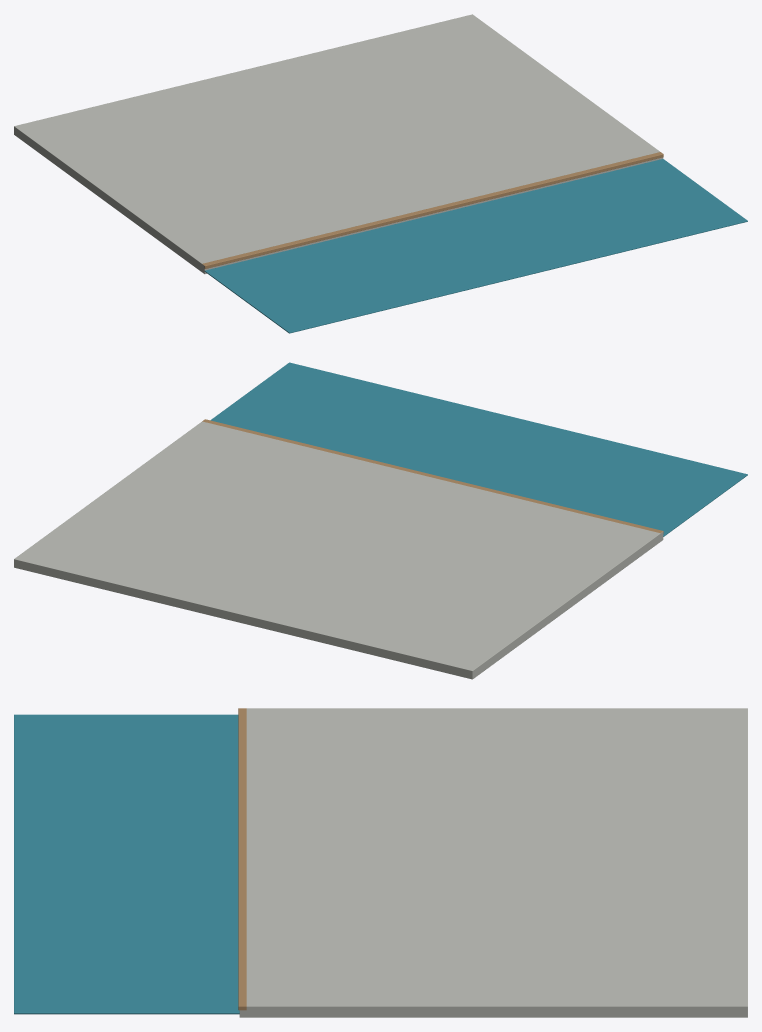
The model's file is rowing-boathouse-and-regatta-course-regatta-riverbank--b71867f1__32174.glb.
The picture shows the model from 3 angles, top to bottom: view 1: azimuth 30°, elevation 25°; view 2: azimuth 150°, elevation 25°; view 3: azimuth 270°, elevation 25°; orthographic projection. The views are drawn at different scales.
Parts seen in each view (by area): view 1: regatta-riverbank-base; view 2: regatta-riverbank-base; view 3: regatta-riverbank-base.
Part boxes in pixels (bbox=[...]): regatta-riverbank-base: bbox=[14, 14, 747, 333]; regatta-riverbank-base: bbox=[14, 362, 747, 679]; regatta-riverbank-base: bbox=[14, 708, 747, 1017].
Bounding box in the file's own units: 25 × 0.4499 × 26.
